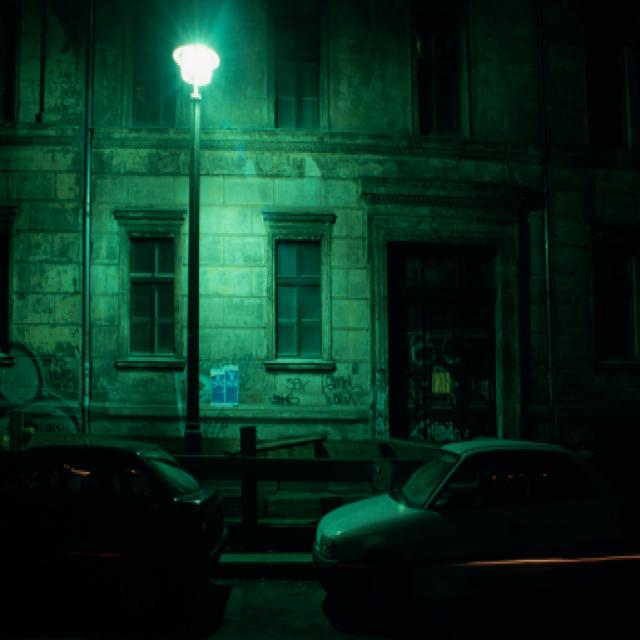Car: (266, 402, 628, 622), (0, 416, 229, 624)
